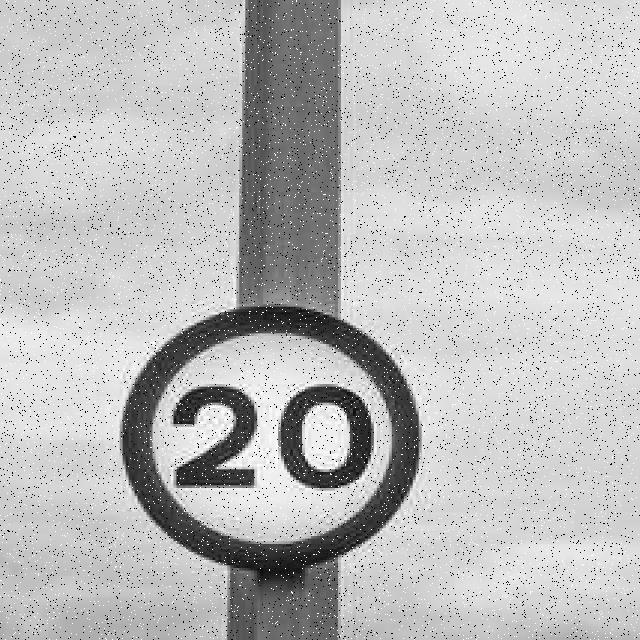speedlimit_20: (122, 304, 412, 562)
